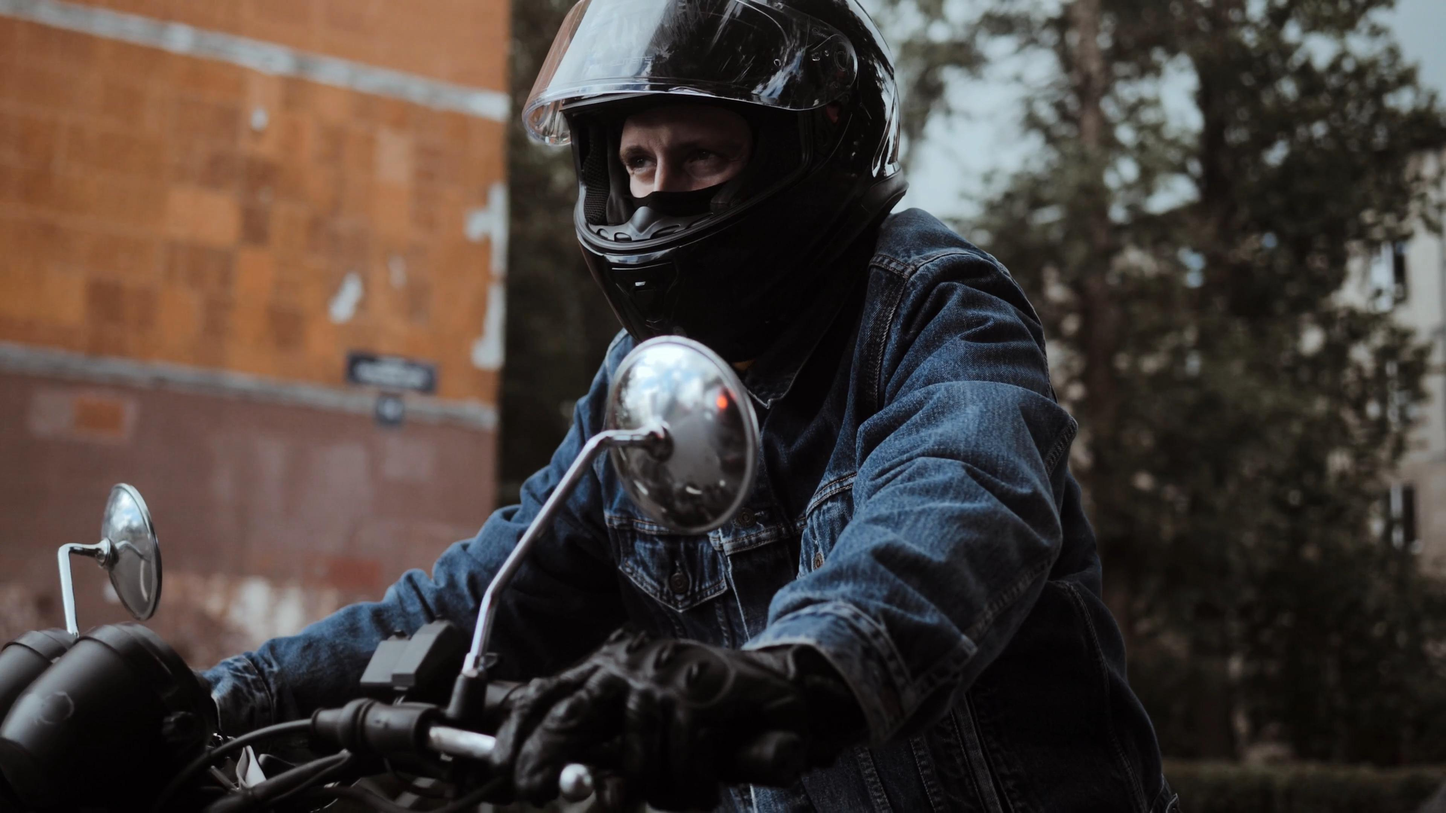driver: (0, 0, 1185, 813)
helmet: (522, 0, 908, 366)
